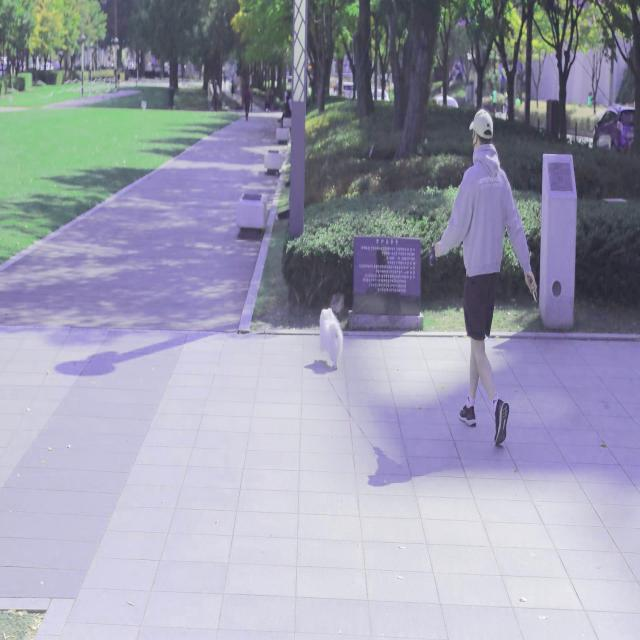Leashed_Dog: (318, 234, 486, 374)
